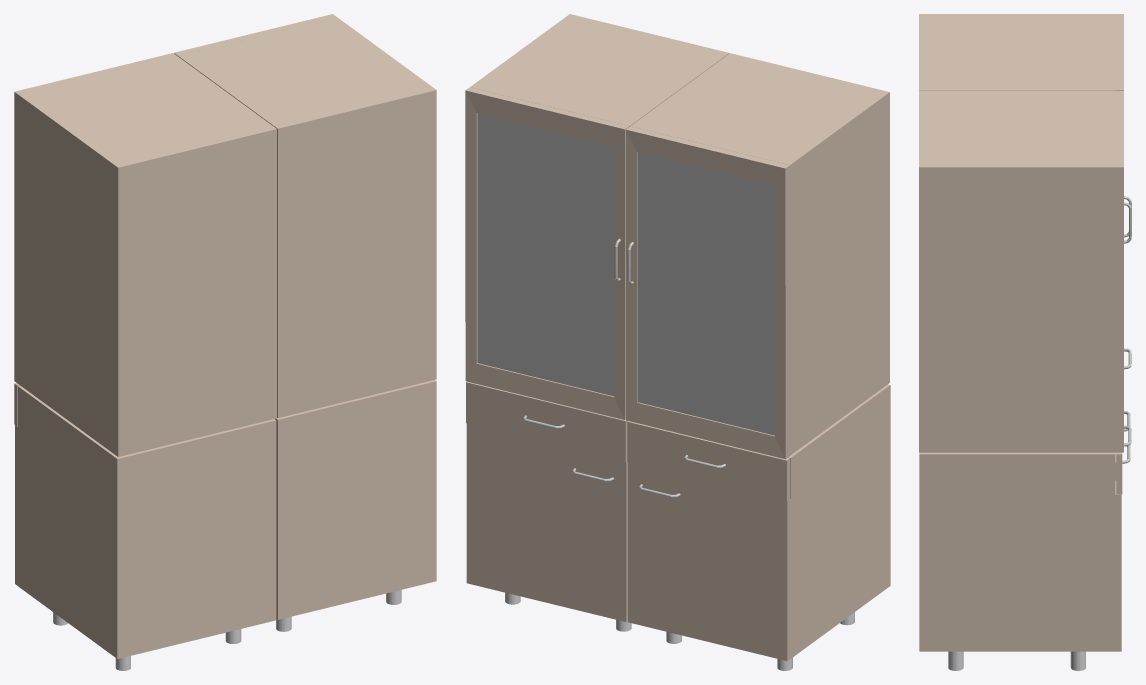
File: cupboard.dae
3 views of the same model, side by side, from view 1: azimuth 30°, elevation 25°; view 2: azimuth 150°, elevation 25°; view 3: azimuth 270°, elevation 25° (orthographic).
Visible parts, largest first — view 1: cupboard_body_1, cupboard_body, Cube_2, Cube, cupboard_door_right, cupboard_door_left; view 2: cupboard_body_1, cupboard_door_glass, cupboard_door_glass_1, cupboard_right_1, cupboard_left_1, Cube_2, cupboard_body, cupboard_door_right, cupboard_door_left, drawer_right, drawer_left; view 3: cupboard_body, Cube, cupboard_body_1, cupboard_door_left, cupboard_left_1, cupboard_door_right.
Boxes of the visible parts, bbox=[...] form: cupboard_body_1: bbox=[18, 56, 276, 456]; cupboard_body: bbox=[178, 17, 436, 417]; Cube_2: bbox=[18, 385, 276, 658]; Cube: bbox=[275, 380, 436, 619]; cupboard_door_right: bbox=[14, 53, 177, 383]; cupboard_door_left: bbox=[174, 14, 336, 56]; cupboard_body_1: bbox=[630, 53, 889, 455]; cupboard_door_glass: bbox=[477, 113, 614, 396]; cupboard_door_glass_1: bbox=[638, 152, 774, 435]; cupboard_right_1: bbox=[628, 463, 790, 661]; cupboard_left_1: bbox=[466, 423, 627, 621]; Cube_2: bbox=[788, 384, 890, 658]; cupboard_body: bbox=[470, 14, 729, 126]; cupboard_door_right: bbox=[626, 126, 789, 459]; cupboard_door_left: bbox=[465, 87, 629, 419]; drawer_right: bbox=[627, 421, 789, 501]; drawer_left: bbox=[466, 381, 627, 462]; cupboard_body: bbox=[919, 90, 1115, 452]; Cube: bbox=[919, 452, 1115, 651]; cupboard_body_1: bbox=[919, 14, 1115, 90]; cupboard_door_left: bbox=[1115, 91, 1123, 452]; cupboard_left_1: bbox=[1115, 480, 1121, 651]; cupboard_door_right: bbox=[1115, 14, 1123, 90].
Size of the model in its own units: 1.19 by 0.6944 by 1.84.
